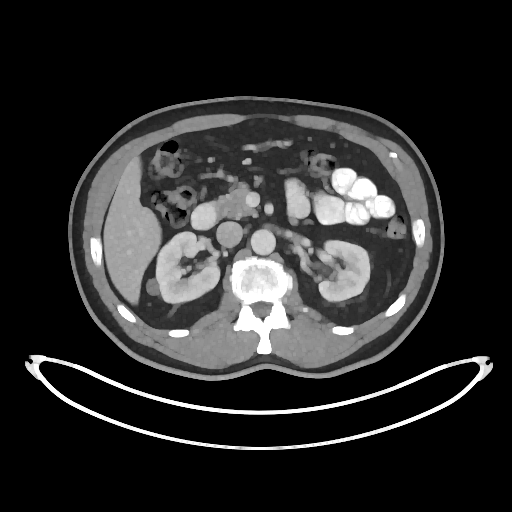Lesion: (144, 278, 165, 301)
